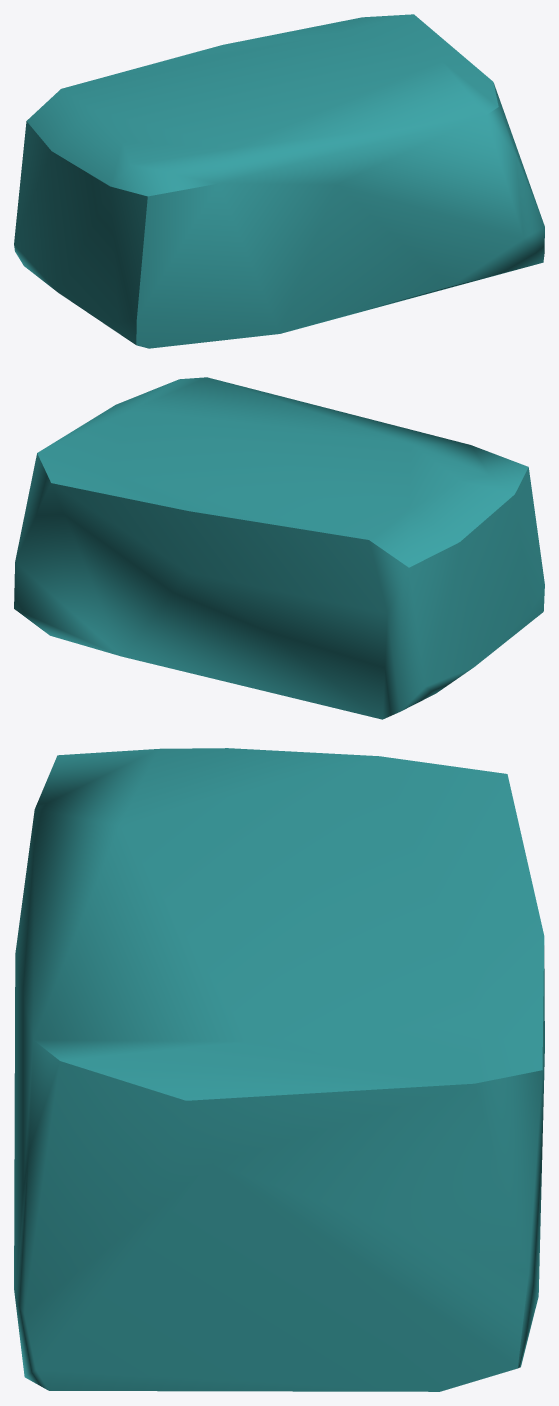
File: SM_Construction_Kit_Rock.fbx
3 views of the same model, one above another, from view 1: azimuth 30°, elevation 25°; view 2: azimuth 150°, elevation 25°; view 3: azimuth 270°, elevation 25° (orthographic). The views are drawn at different scales.
Visible parts, largest first — view 1: SM_Construction_Kit_Rock; view 2: SM_Construction_Kit_Rock; view 3: SM_Construction_Kit_Rock.
Boxes of the visible parts, <box> form: SM_Construction_Kit_Rock: <box>14,14,544,348</box>; SM_Construction_Kit_Rock: <box>14,377,544,719</box>; SM_Construction_Kit_Rock: <box>14,748,544,1391</box>.
Size of the model in its own units: 131 by 54.42 by 80.58.
